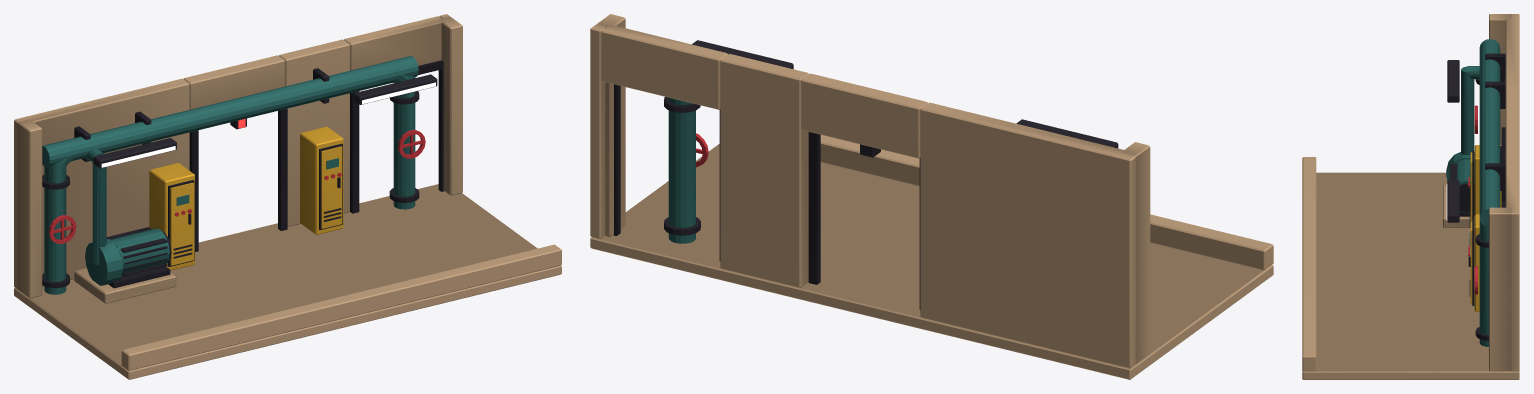
3 views of the same model, side by side, from view 1: azimuth 30°, elevation 25°; view 2: azimuth 150°, elevation 25°; view 3: azimuth 270°, elevation 25° (orthographic). The views are drawn at different scales.
Visible parts, largest first — view 1: body_pal_khakiLight, body_pal_backpackTeal, body_pal_uiDark, body_pal_schoolBusYellow, body_pal_survivorRed, body_emi_picketWhite; view 2: body_pal_khakiLight, body_pal_uiDark, body_pal_backpackTeal; view 3: body_pal_khakiLight, body_pal_backpackTeal, body_pal_uiDark, body_pal_schoolBusYellow, body_pal_survivorRed.
Boxes of the visible parts, bbox=[...] form: body_pal_khakiLight: bbox=[14, 14, 561, 379]; body_pal_backpackTeal: bbox=[42, 56, 418, 294]; body_pal_uiDark: bbox=[42, 60, 444, 288]; body_pal_schoolBusYellow: bbox=[149, 126, 343, 270]; body_pal_survivorRed: bbox=[48, 130, 425, 243]; body_emi_picketWhite: bbox=[101, 82, 435, 167]; body_pal_khakiLight: bbox=[590, 14, 1273, 379]; body_pal_uiDark: bbox=[613, 40, 1118, 309]; body_pal_backpackTeal: bbox=[668, 97, 695, 243]; body_pal_khakiLight: bbox=[1302, 14, 1519, 379]; body_pal_backpackTeal: bbox=[1446, 39, 1500, 346]; body_pal_uiDark: bbox=[1447, 53, 1505, 340]; body_pal_schoolBusYellow: bbox=[1470, 145, 1501, 311]; body_pal_survivorRed: bbox=[1468, 105, 1477, 294].
Bounding box in the file's own units: 10 × 3.9 × 4.6.
